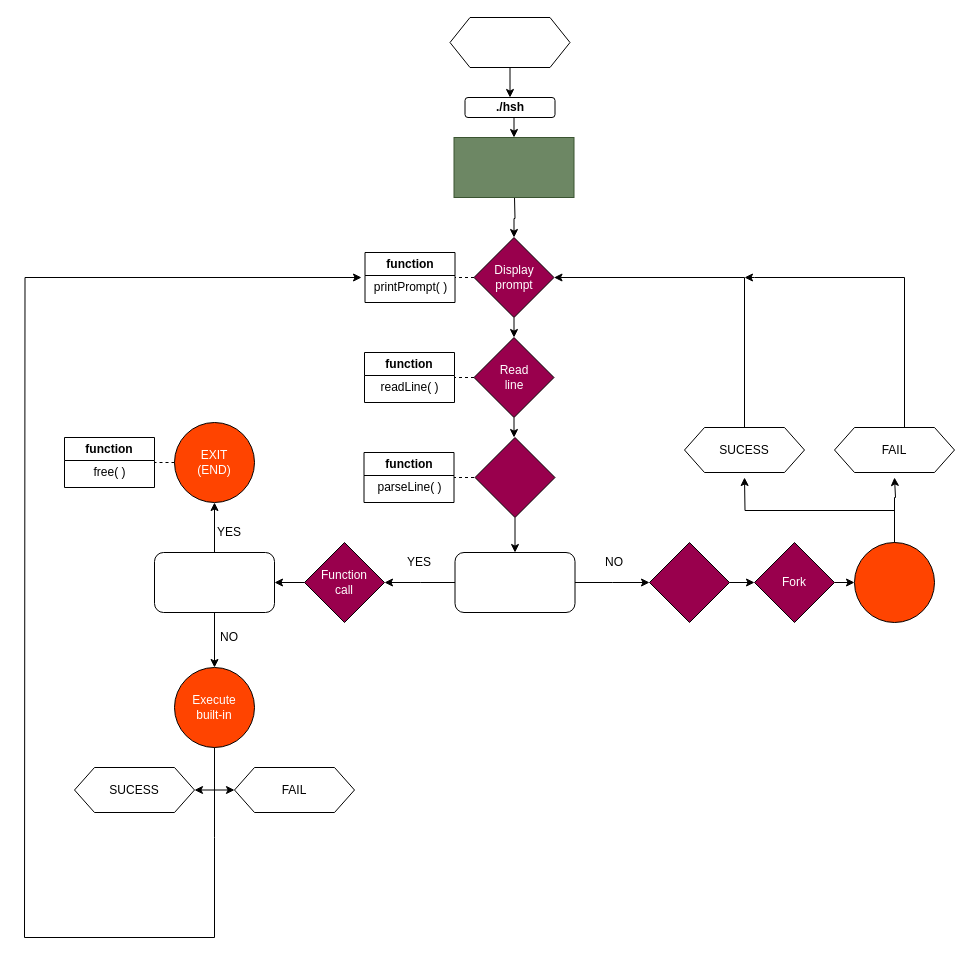
Image size: 972x963. Some labels were removed from this diagram. Each missing label, with the box of its shape:
Command is a built-in ?: (454, 552, 575, 612)
Command is Exit ?: (154, 552, 274, 612)
Execute /bin: (854, 542, 934, 622)
Get Path: (648, 542, 730, 622)
Interactive main ( ): (453, 136, 574, 198)
Parse line: (474, 436, 555, 518)
USER: (449, 16, 570, 68)
